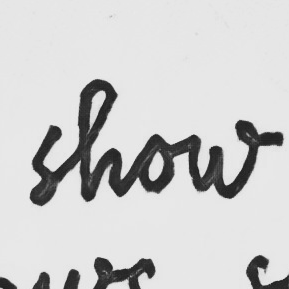h: (76, 76, 125, 204)
o: (133, 131, 177, 195)
s: (26, 122, 65, 210)
w: (185, 118, 262, 201)
